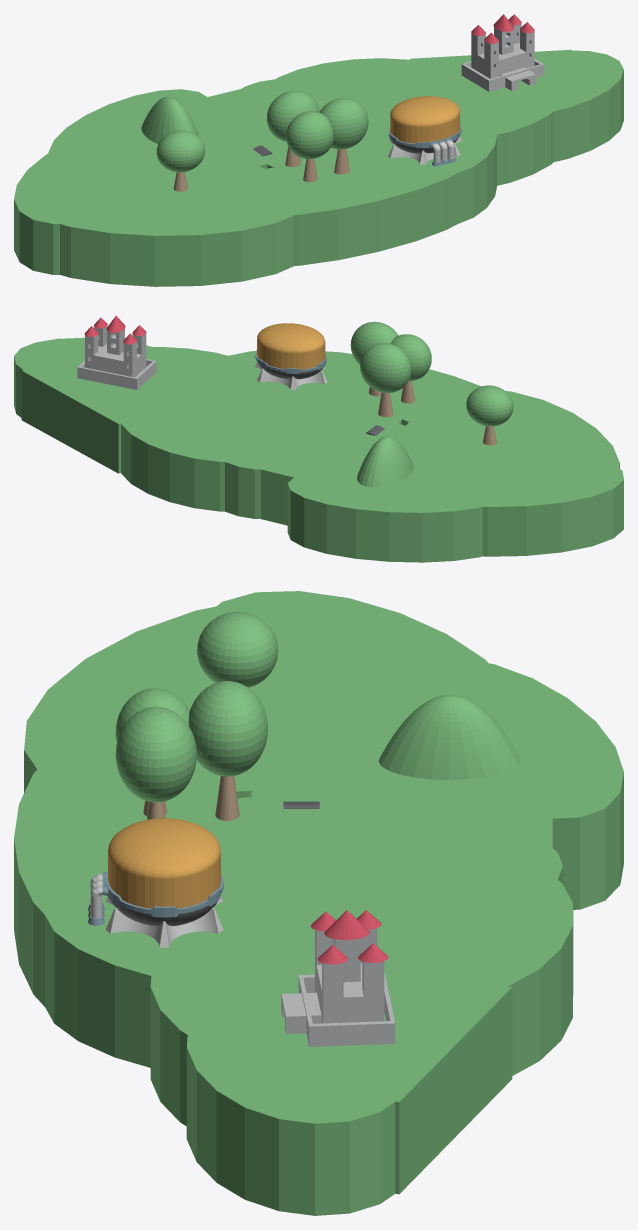
The model's file is island.glb.
3 views of the same model, one above another, from view 1: azimuth 30°, elevation 25°; view 2: azimuth 150°, elevation 25°; view 3: azimuth 270°, elevation 25° (orthographic). The views are drawn at different scales.
Parts seen in each view (by area): view 1: Mesh_Mesh_head_geo.001_lambert2SG.001; view 2: Mesh_Mesh_head_geo.001_lambert2SG.001; view 3: Mesh_Mesh_head_geo.001_lambert2SG.001.
Part boxes in pixels (bbox=[...]): Mesh_Mesh_head_geo.001_lambert2SG.001: bbox=[14, 14, 623, 286]; Mesh_Mesh_head_geo.001_lambert2SG.001: bbox=[14, 315, 623, 562]; Mesh_Mesh_head_geo.001_lambert2SG.001: bbox=[14, 591, 623, 1215].
Bounding box in the file's own units: 124 × 24 × 60.
